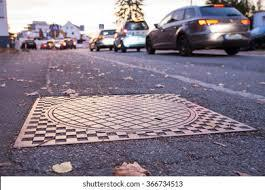closed manhole-not overflowing-: (9, 77, 257, 138)
